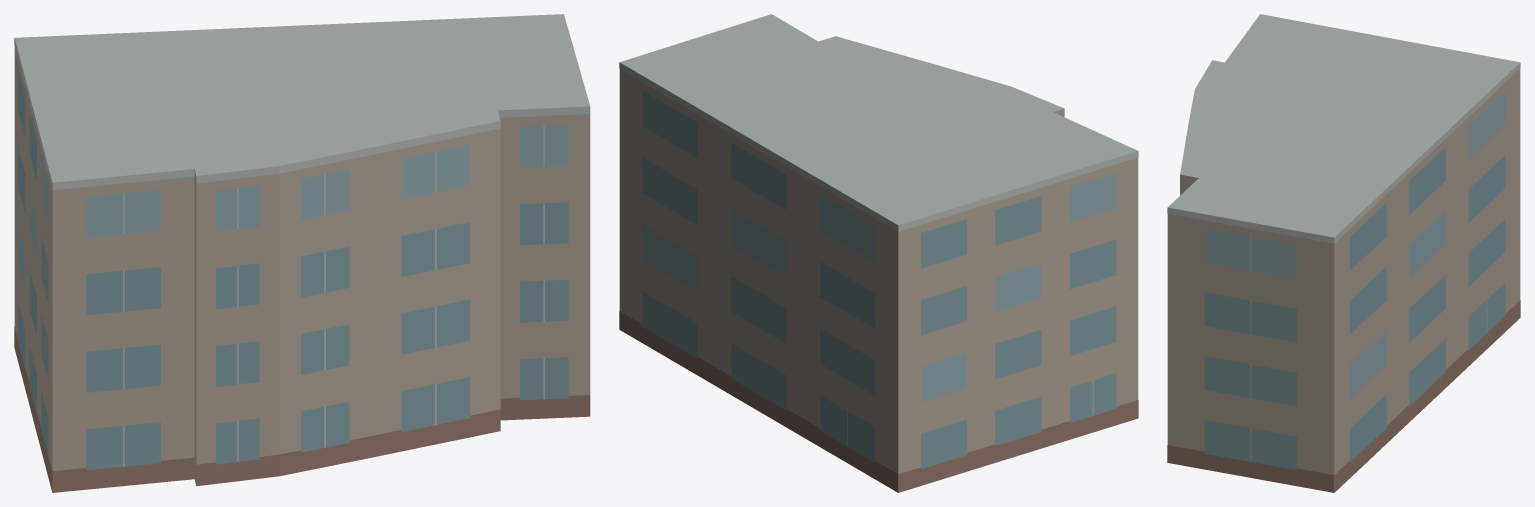
The model's file is survey-upis-32656861.glb.
The picture shows the model from 3 angles, left to right: view 1: azimuth 30°, elevation 25°; view 2: azimuth 150°, elevation 25°; view 3: azimuth 270°, elevation 25°; orthographic projection. The views are drawn at different scales.
Visible parts, largest first — view 1: survey-upis-32656861.tmp; view 2: survey-upis-32656861.tmp; view 3: survey-upis-32656861.tmp.
Part boxes in pixels (bbox=[...]): survey-upis-32656861.tmp: bbox=[14, 14, 590, 492]; survey-upis-32656861.tmp: bbox=[619, 14, 1138, 492]; survey-upis-32656861.tmp: bbox=[1167, 14, 1520, 492].
Size of the model in its own units: 18.98 by 10.1 by 12.67.
